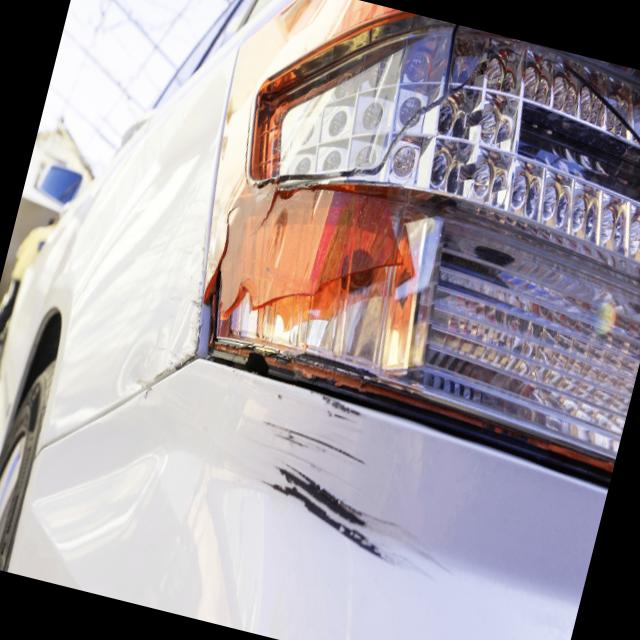Phare abime: (177, 254, 640, 506)
Rayure: (225, 378, 466, 618)
